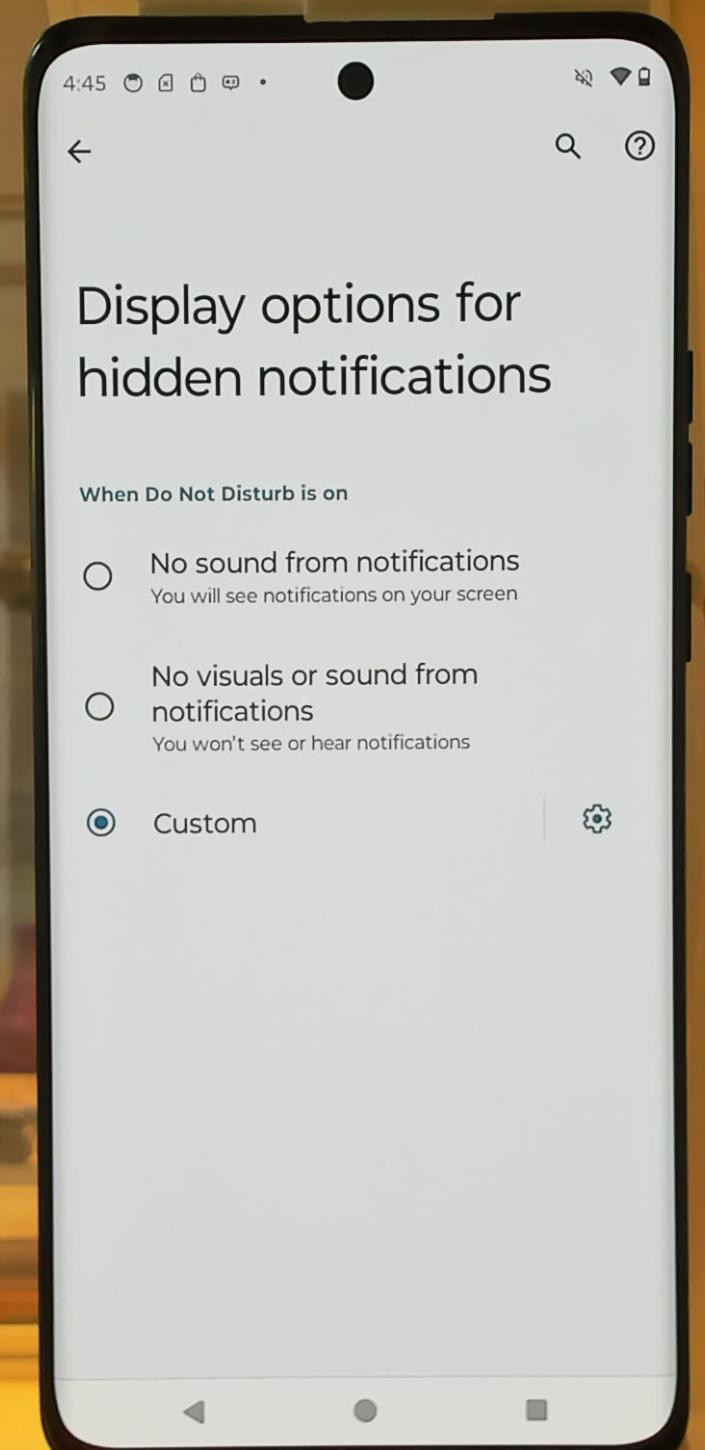RadioButton: (58, 523, 546, 628), (65, 648, 526, 759), (70, 793, 281, 846)
